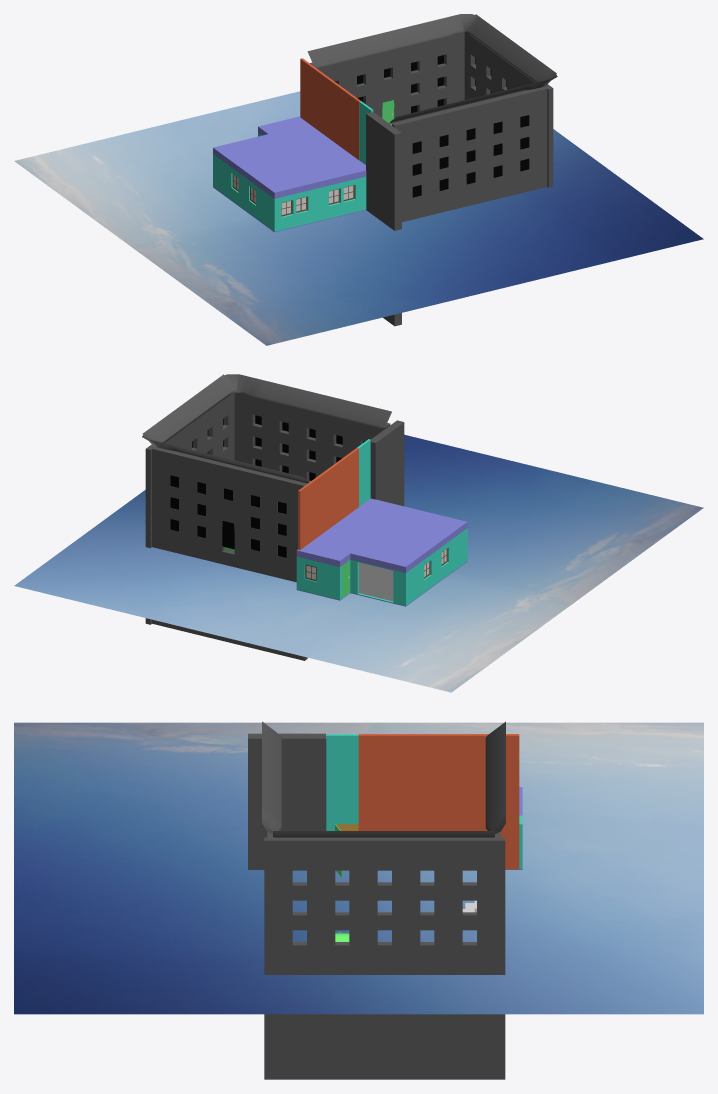
File: wohnung.fbx
3 renders of one model, top to bottom at view 1: azimuth 30°, elevation 25°; view 2: azimuth 150°, elevation 25°; view 3: azimuth 270°, elevation 25°, orthographic. The views are drawn at different scales.
Parts seen in each view (by area): view 1: Boden_Aussen, WandR, WandL, Decke, Dach, Daemmung, WandF3, WandF1, WandB, WandR_Innen, DeckeBad; view 2: Boden_Aussen, WandL, WandR, Decke, Dach, Daemmung, WandF1, WandB, WandF3, WandL_Innen, Plane, WandF2 (+2 smaller); view 3: Boden_Aussen, WandB, WandF1, WandF3, Dach, WandF2, Aussenwand2.001.
Boxes of the visible parts, x1,y1,x2,y2 form: Boden_Aussen: (14,91,703,345); WandR: (392,86,547,222); WandL: (310,32,464,118); Decke: (213,116,366,198); Dach: (307,14,557,123); Daemmung: (213,133,366,231); WandF3: (366,112,401,326); WandF1: (300,58,360,159); WandB: (464,32,553,187); WandR_Innen: (412,115,529,197); DeckeBad: (292,162,341,188); Boden_Aussen: (14,434,703,692); WandL: (152,447,307,660); WandR: (234,392,390,481); Decke: (296,498,467,572); Dach: (142,374,391,483); Daemmung: (296,528,467,605); WandF1: (298,448,358,549); WandB: (145,392,234,624); WandF3: (370,420,404,506); WandL_Innen: (170,475,286,557); Plane: (359,562,393,601); WandF2: (357,439,370,506); Boden_Aussen: (14,722,703,1014); WandB: (264,837,505,1079); WandF1: (358,734,519,824); WandF3: (248,733,326,869); Dach: (262,721,505,837); WandF2: (326,734,358,824); Aussenwand2.001: (358,824,519,869).
Size of the model in its own units: 3687 by 1645 by 3687.
